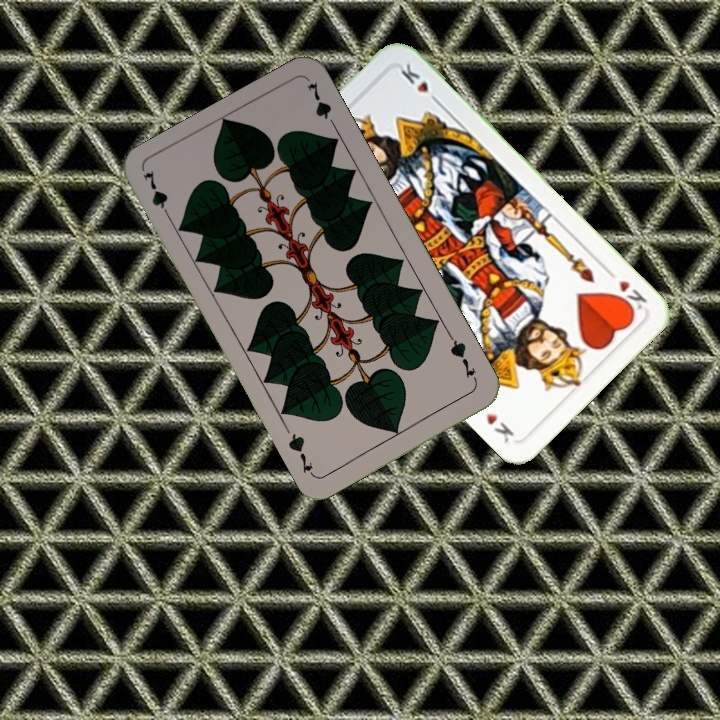G7: (138, 166, 175, 224), (445, 332, 478, 381)
HK: (610, 276, 650, 317)
